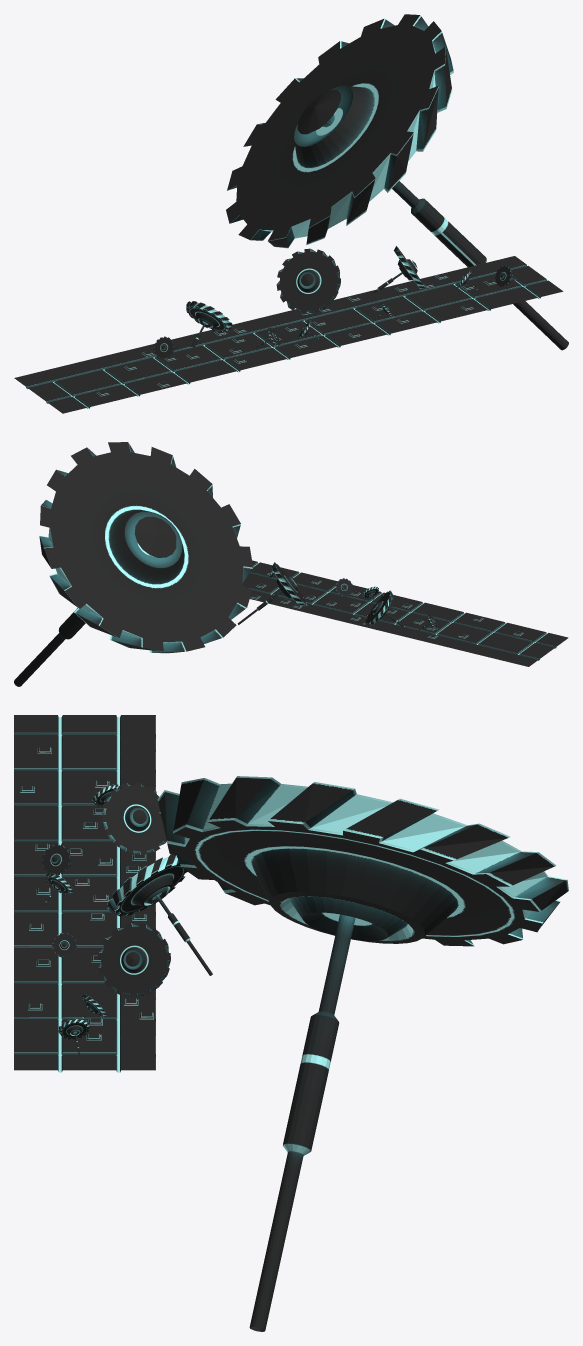
File: gear2.obj
3 renders of one model, top to bottom at view 1: azimuth 30°, elevation 25°; view 2: azimuth 150°, elevation 25°; view 3: azimuth 270°, elevation 25°, orthographic. The views are drawn at different scales.
Parts seen in each view (by area): view 1: Gear.006_Gear.002, Plane.001, Gear.000_Gear.003, Gear.004_Gear.003, Gear.007_Gear.003; view 2: Gear.006_Gear.002, Plane.001, Gear.000_Gear.003, Gear.004_Gear.003; view 3: Gear.006_Gear.002, Plane.001, Gear.007_Gear.003, Gear.004_Gear.003, Gear.000_Gear.003.
Boxes of the visible parts, box(x1,y1,x2,y2) form: Gear.006_Gear.002: box(226, 14, 568, 350); Plane.001: box(14, 256, 563, 413); Gear.000_Gear.003: box(276, 248, 340, 313); Gear.004_Gear.003: box(186, 301, 232, 347); Gear.007_Gear.003: box(372, 246, 425, 292); Gear.006_Gear.002: box(14, 442, 253, 686); Plane.001: box(242, 560, 568, 666); Gear.000_Gear.003: box(237, 562, 307, 624); Gear.004_Gear.003: box(365, 590, 404, 626); Gear.006_Gear.002: box(157, 776, 568, 1331); Plane.001: box(14, 715, 155, 1072); Gear.007_Gear.003: box(97, 923, 170, 997); Gear.004_Gear.003: box(102, 782, 166, 854); Gear.000_Gear.003: box(107, 854, 212, 975).
Size of the model in its own units: 323 by 172 by 181.
2 materials, 2 textured.
